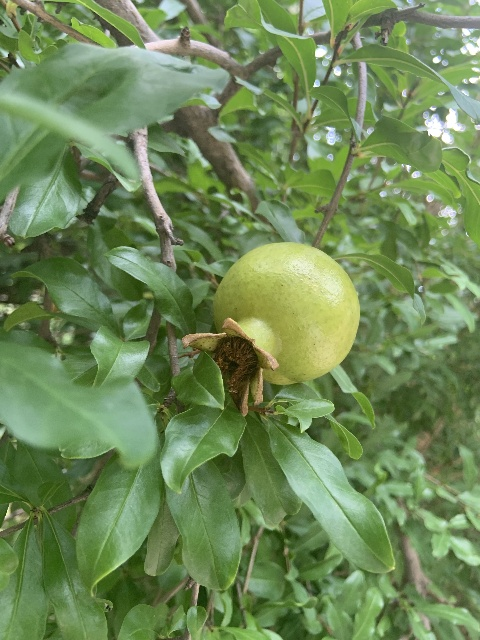mid-growth: (181, 241, 361, 416)
